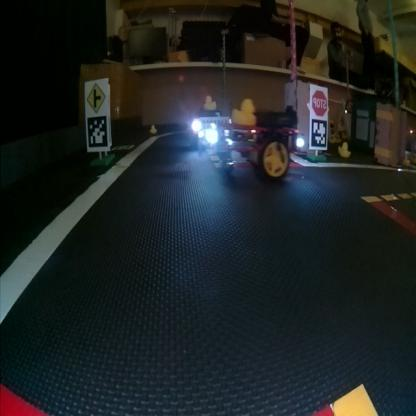Duckie: (234, 100, 256, 124), (338, 141, 352, 157), (204, 95, 217, 109), (150, 124, 158, 134)
Duckiebot: (192, 112, 228, 145)
Intersection sign: (87, 80, 107, 114)
QR code: (89, 117, 108, 148), (313, 119, 327, 144)
Stop sign: (312, 88, 328, 115)
